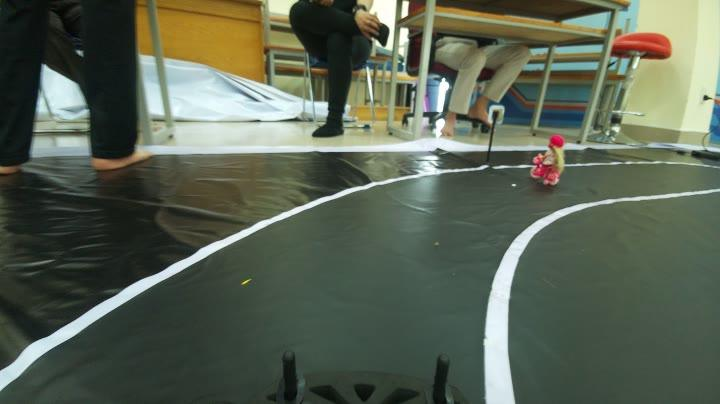pedestrian: (528, 130, 566, 197)
